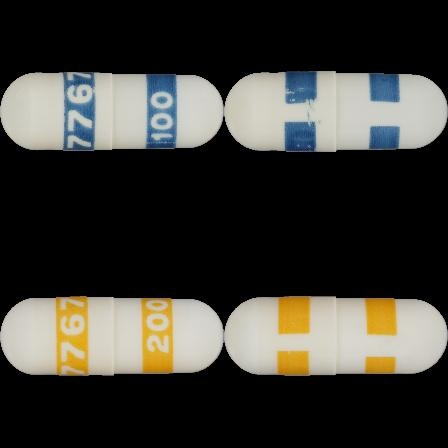55154-3621: (0, 0, 224, 224)
